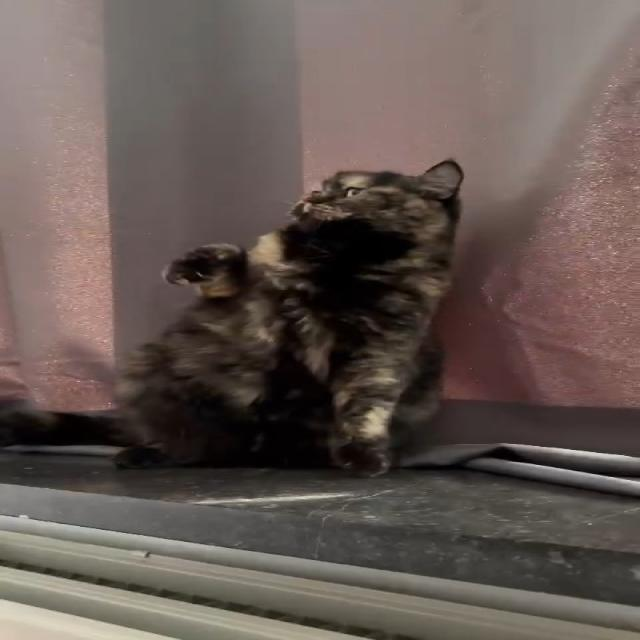authorized: (2, 158, 466, 478)
